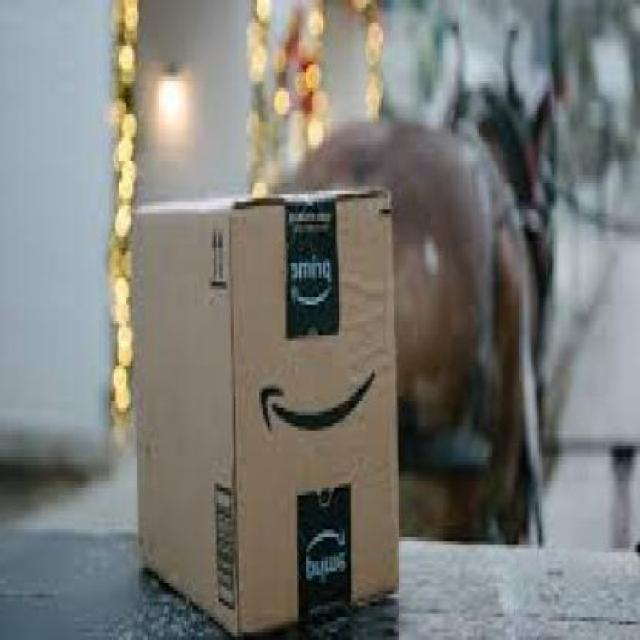cardboxes: (132, 182, 403, 638)
